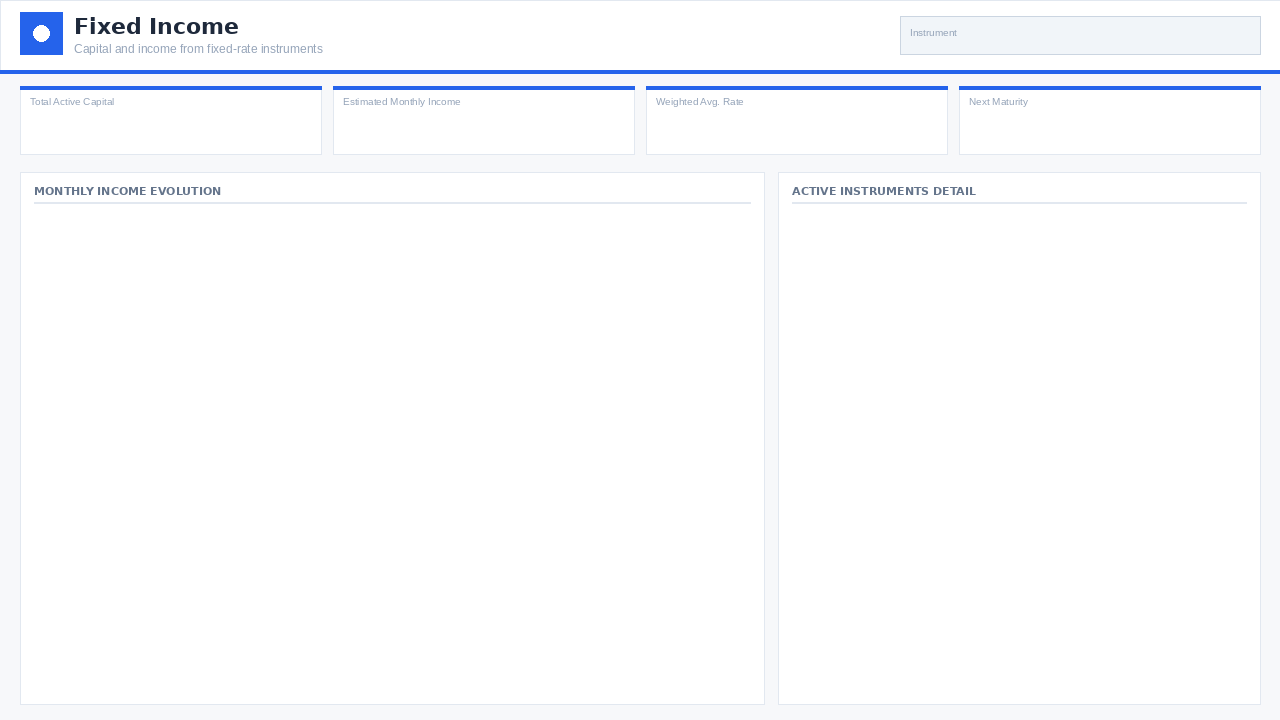

Layout of this report page (visuals, bound fields, positions):
{"tool":"powerbi","page":{"name":"Renta fija","canvas":[1280,720],"ordinal":4},"visuals":[{"type":"tableEx","title":"Rendimiento por activo","fields":{"Values":["Fact_FixedIncome.AssetName","Fact_FixedIncome.StartDate","Fact_FixedIncome.EndDate","Sum(Fact_FixedIncome.Principal_MXN)","Avg(Fact_FixedIncome.AnnualRate)","Fact_FixedIncome.PaymentFrequency","Fact_FixedIncome.Ingreso Mensual Estimado"]},"box":[777.9,201.3,480.5,500],"z":0},{"type":"cardVisual","title":"Patrimonio total MXN","fields":{"Data":["Fact_FixedIncome.Capital Activo MXN"]},"box":[19.5,93.5,224.7,57.1],"z":1000},{"type":"cardVisual","title":"Patrimonio total MXN","fields":{"Data":["Fact_FixedIncome.Ingreso Mensual Estimado"]},"box":[335.1,93.5,223.4,57.1],"z":2000},{"type":"cardVisual","title":"Variación vs mes anterior","fields":{"Data":["Fact_FixedIncome.Tasa Promedio Ponderada"]},"box":[650.6,93.5,223.4,57.1],"z":3000},{"type":"cardVisual","title":"Variación vs mes anterior","fields":{"Data":["Fact_FixedIncome.Próximo Vencimiento"]},"box":[962.3,93.5,223.4,57.1],"z":4000},{"type":"lineClusteredColumnComboChart","title":"Evolución del patrimonio por categoría","fields":{"Category":["Calendar.YearMonth"],"Y":["Fact_FixedIncome.Capital por Fecha"],"Y2":["Fact_FixedIncome.Ingreso Mensual por Fecha"]},"box":[19.5,201.3,742.9,500],"z":5000},{"type":"slicer","title":"Clase de activo","fields":{"Values":["Fact_FixedIncome.AssetName"]},"box":[984.4,13,296.1,37.7],"z":6000}]}

Visuals, with their boxes in screenshot pixels (x1, y1, x2, y2), scaled from the page's 1280x720 canvas onto the 1280x720 screenshot:
"Rendimiento por activo" tableEx: box(778, 201, 1258, 701)
"Patrimonio total MXN" cardVisual: box(20, 94, 244, 151)
"Patrimonio total MXN" cardVisual: box(335, 94, 558, 151)
"Variación vs mes anterior" cardVisual: box(651, 94, 874, 151)
"Variación vs mes anterior" cardVisual: box(962, 94, 1186, 151)
"Evolución del patrimonio por categoría" lineClusteredColumnComboChart: box(20, 201, 762, 701)
"Clase de activo" slicer: box(984, 13, 1279, 51)
